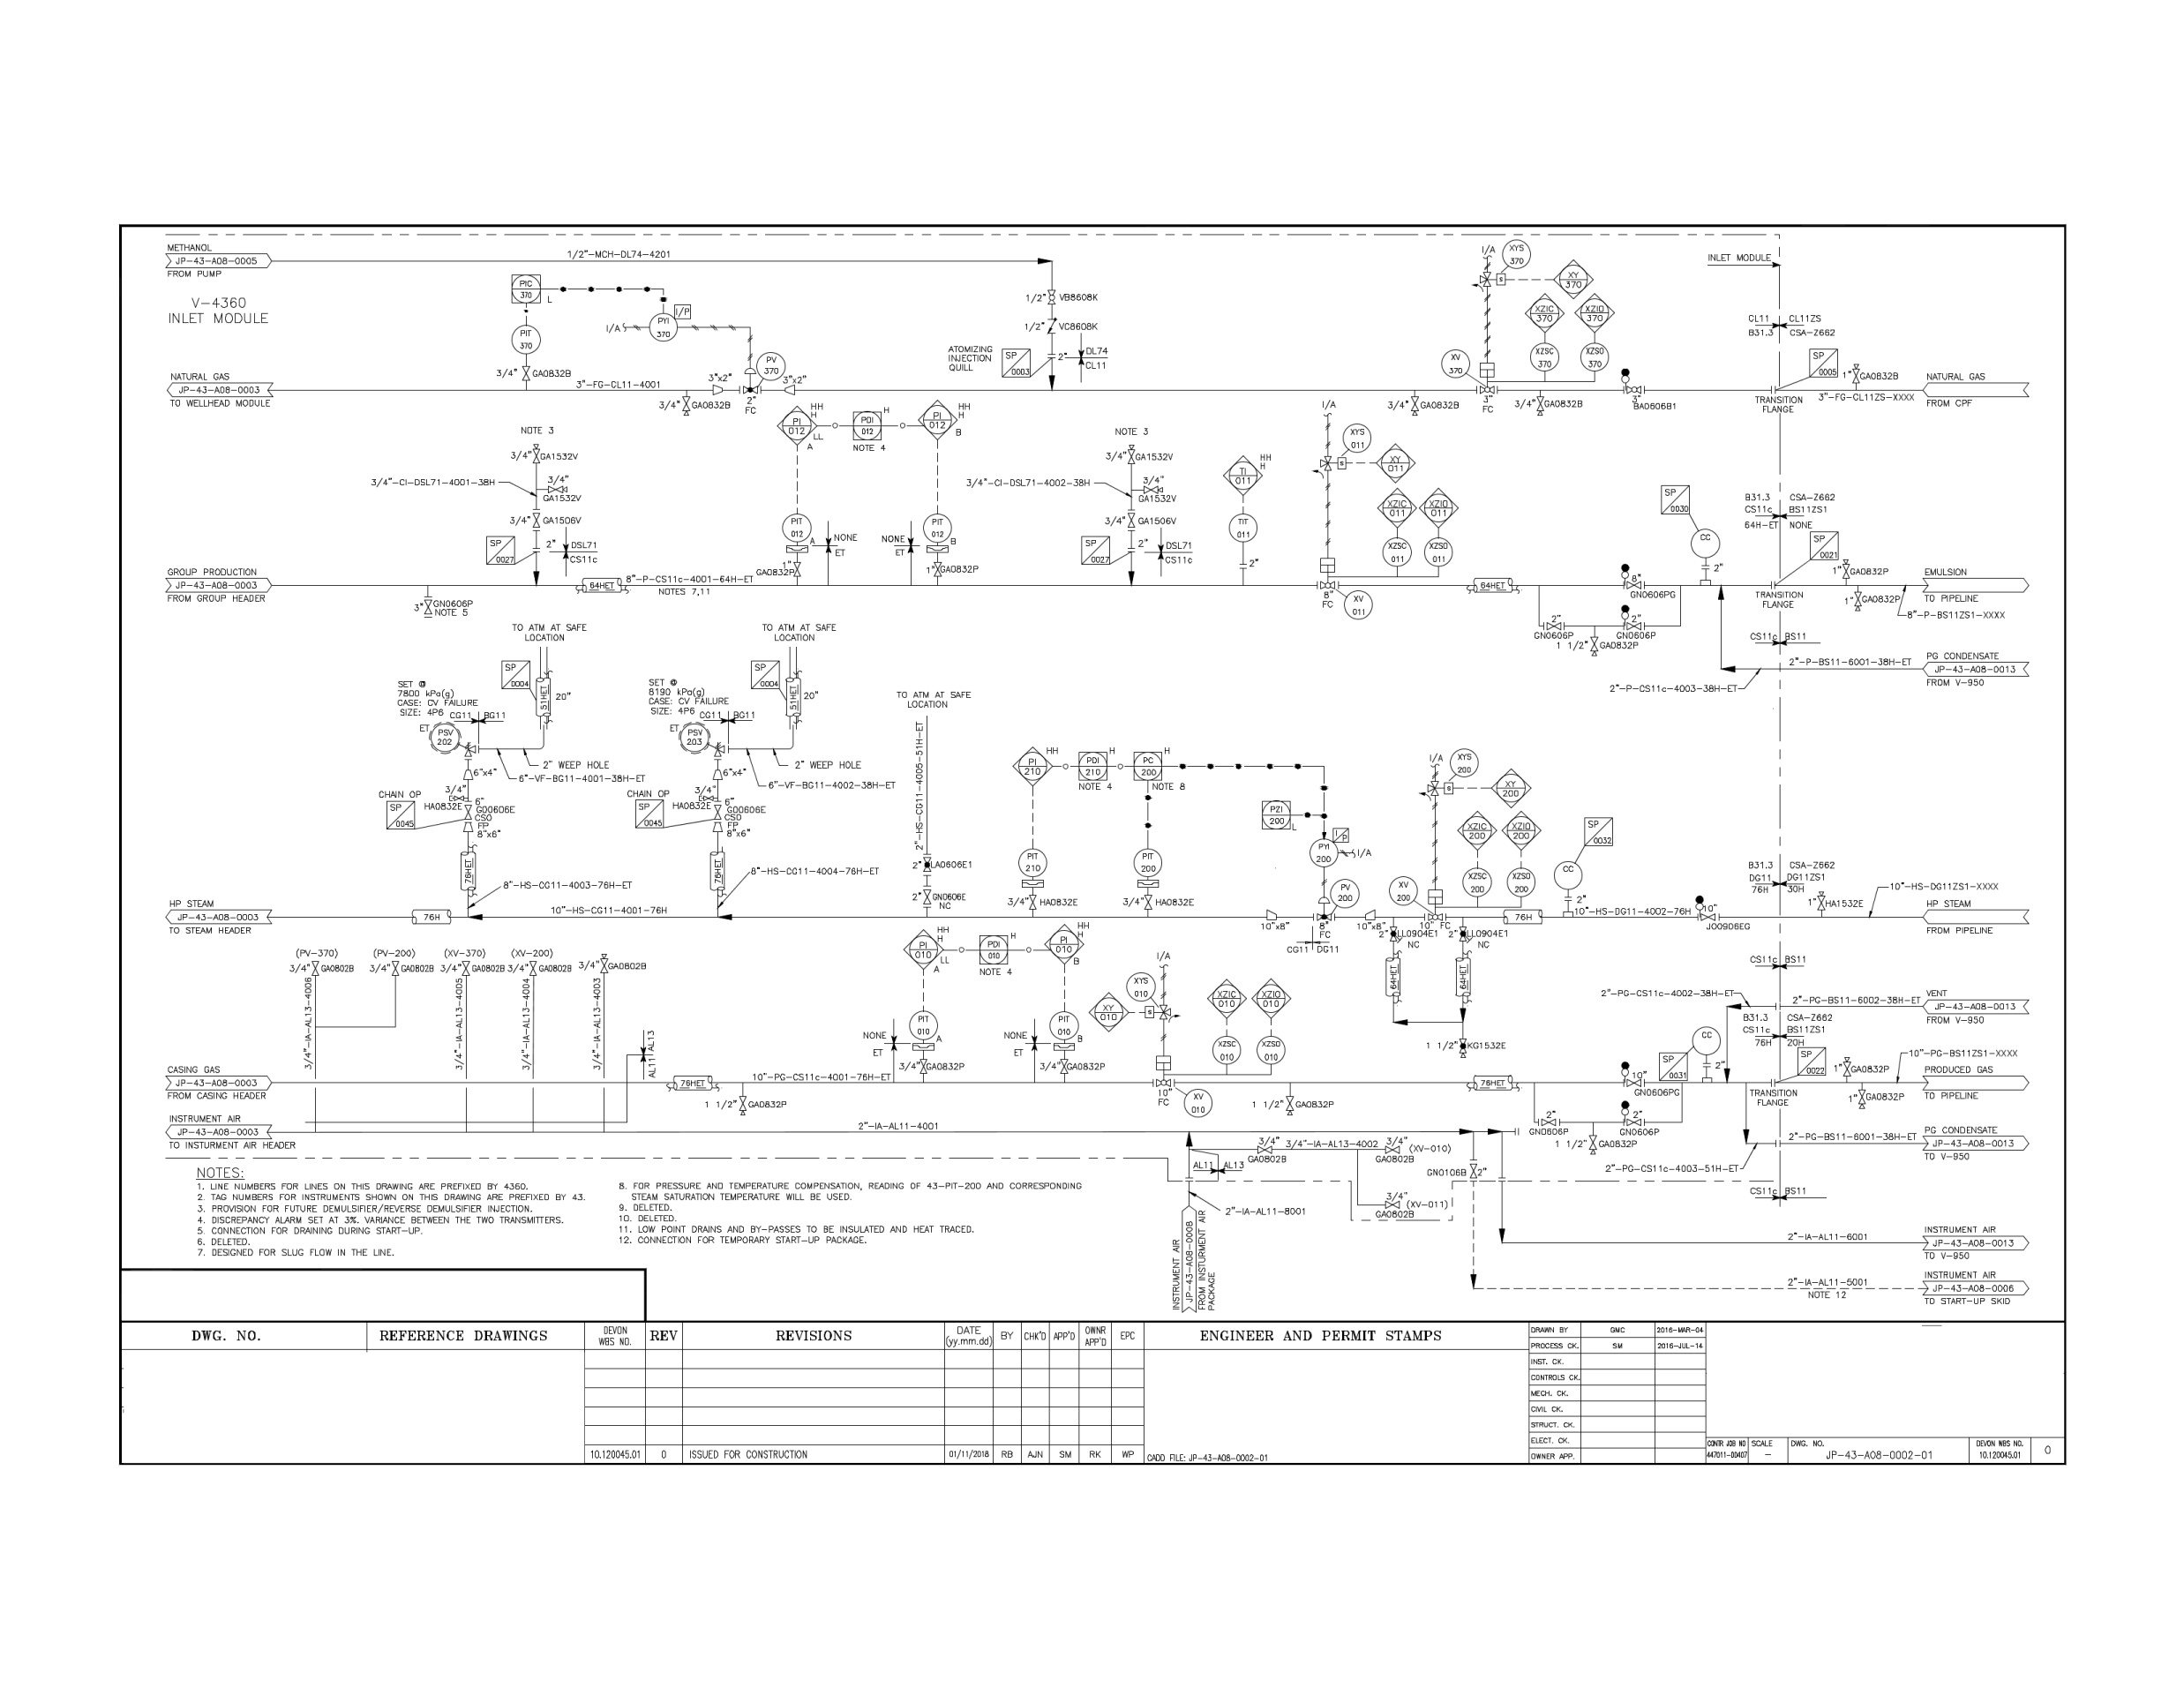Inline Instrument: (509, 323, 542, 356), (645, 310, 679, 344), (1227, 511, 1260, 544), (908, 1009, 941, 1043), (1500, 238, 1533, 271), (780, 511, 812, 544), (1342, 589, 1376, 621), (1505, 867, 1539, 899), (1388, 874, 1420, 908), (1048, 1009, 1081, 1041), (1211, 1034, 1243, 1067), (1528, 340, 1562, 372), (1580, 340, 1611, 374), (1184, 1087, 1216, 1121), (922, 512, 954, 544), (1381, 535, 1413, 567), (1424, 535, 1455, 567), (1461, 867, 1493, 899), (1330, 878, 1361, 910), (1255, 1035, 1287, 1067), (1450, 746, 1482, 778), (1342, 422, 1374, 454), (1126, 970, 1158, 1002), (1018, 846, 1049, 878), (1133, 848, 1165, 879)
Panel Instrument: (509, 273, 544, 307), (1076, 748, 1112, 782), (851, 410, 885, 443), (1259, 796, 1292, 830), (1133, 750, 1166, 782)
